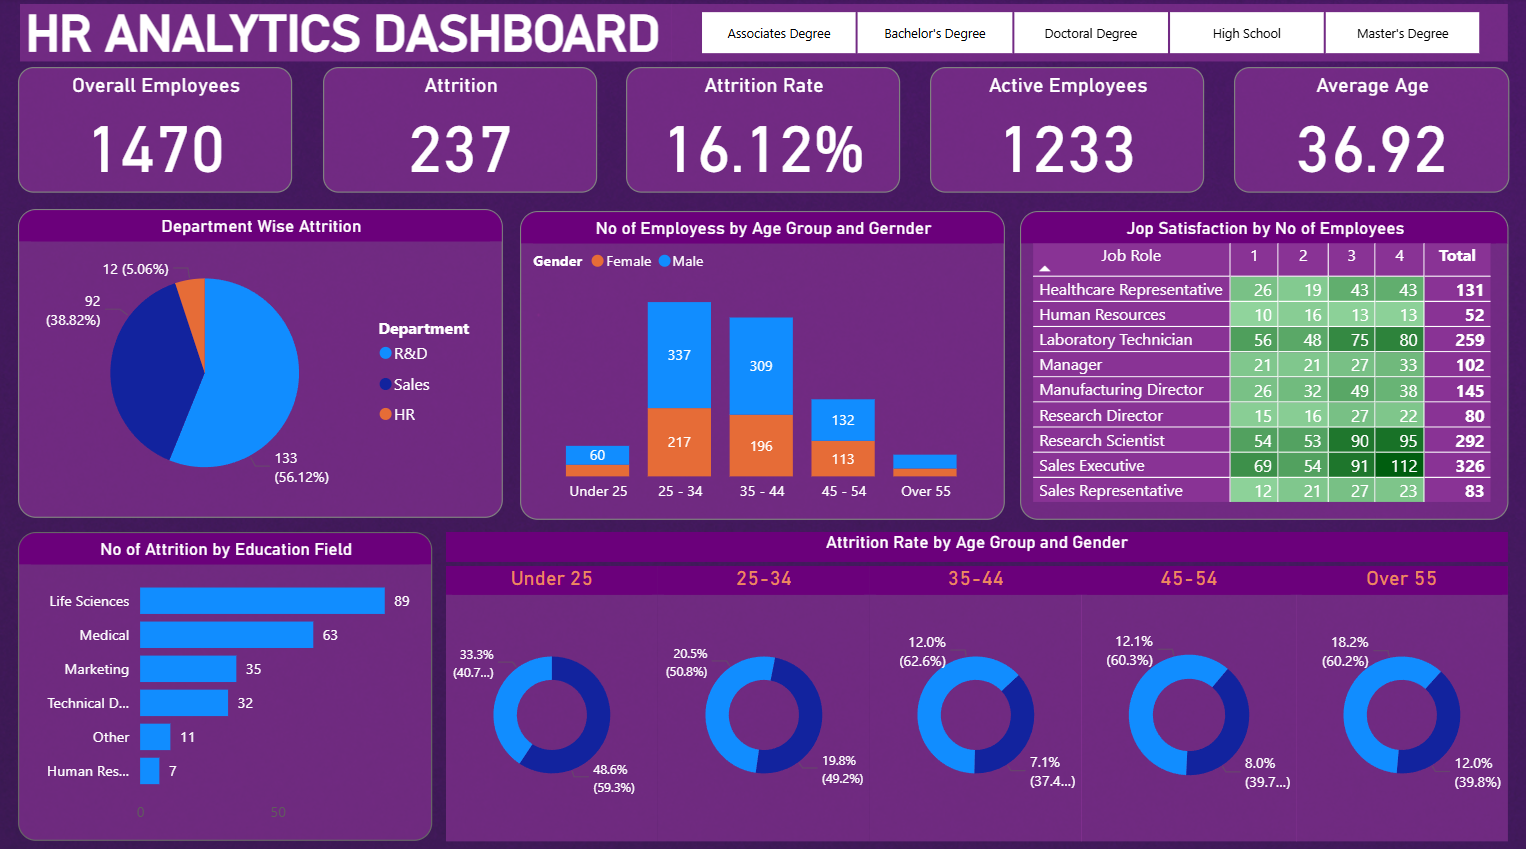

The page's visual inventory and layout, read from the dashboard file:
{"tool":"powerbi","page":{"name":"Page 1","canvas":[1280,720],"ordinal":0},"visuals":[{"type":"card","title":"Overall Employees","fields":{"Values":["HR Data xlsx - HR data.Overall Employees"]},"box":[18,57.5,229,105],"z":0},{"type":"card","title":"Attrition","fields":{"Values":["HR Data xlsx - HR data.Attrition2"]},"box":[272,57.5,228.9,105],"z":1000},{"type":"card","title":"Attrition Rate","fields":{"Values":["HR Data xlsx - HR data.Attrition Rate"]},"box":[525.7,57.5,228.9,105],"z":2000},{"type":"card","title":"Active Employees","fields":{"Values":["HR Data xlsx - HR data.Active Emplooyes"]},"box":[779.5,57.5,228.9,105],"z":3000},{"type":"card","title":"Average Age","fields":{"Values":["Avg(HR Data xlsx - HR data.Age)"]},"box":[1033.3,57.5,229.8,105],"z":4000},{"type":"pieChart","title":"Department Wise Attrition","fields":{"Y":["HR Data xlsx - HR data.Attrition2"],"Category":["HR Data xlsx - HR data.Department"]},"box":[18,176,404.9,257.7],"z":5000},{"type":"columnChart","title":"No of Employess by Age Group and Gernder","fields":{"Category":["HR Data xlsx - HR data.CF_age band"],"Y":["HR Data xlsx - HR data.Overall Employees"],"Series":["HR Data xlsx - HR data.Gender"]},"box":[437.2,177.8,404.9,257.7],"z":6000},{"type":"pivotTable","title":"Jop Satisfaction by No of Employees","fields":{"Rows":["HR Data xlsx - HR data.Job Role"],"Columns":["HR Data xlsx - HR data.Job Satisfaction"],"Values":["HR Data xlsx - HR data.Overall Employees"]},"box":[854.7,177.8,408.5,257.7],"z":7000},{"type":"clusteredBarChart","title":"No of Attrition by Education Field","fields":{"Y":["HR Data xlsx - HR data.Attrition2"],"Category":["HR Data xlsx - HR data.Education Field"]},"box":[18,446.2,345.6,257.7],"z":8000},{"type":"donutChart","title":"Under 25","fields":{"Y":["HR Data xlsx - HR data.Attrition Rate"],"Category":["HR Data xlsx - HR data.Gender"],"Series":["HR Data xlsx - HR data.CF_age band"]},"box":[375.3,474,176.9,229.8],"z":9000},{"type":"donutChart","title":"25-34","fields":{"Y":["HR Data xlsx - HR data.Attrition Rate"],"Category":["HR Data xlsx - HR data.Gender"],"Series":["HR Data xlsx - HR data.CF_age band"]},"box":[552.1,474,176.9,229.8],"z":10000},{"type":"donutChart","title":"35-44","fields":{"Y":["HR Data xlsx - HR data.Attrition Rate"],"Category":["HR Data xlsx - HR data.Gender"],"Series":["HR Data xlsx - HR data.CF_age band"]},"box":[729,474,176.9,229.8],"z":11000},{"type":"donutChart","title":"45-54","fields":{"Y":["HR Data xlsx - HR data.Attrition Rate"],"Category":["HR Data xlsx - HR data.Gender"],"Series":["HR Data xlsx - HR data.CF_age band"]},"box":[905.8,474,180.4,229.8],"z":12000},{"type":"donutChart","title":"Over 55","fields":{"Y":["HR Data xlsx - HR data.Attrition Rate"],"Category":["HR Data xlsx - HR data.Gender"],"Series":["HR Data xlsx - HR data.CF_age band"]},"box":[1085.4,474,176.9,229.8],"z":13000},{"type":"textbox","title":"Attrition Rate by Age Group and Gender","box":[375.3,446.2,887,25.1],"z":14000},{"type":"textbox","title":"HR ANALYTICS DASHBOARD","box":[18.9,5.4,544,47.6],"z":15000},{"type":"slicer","fields":{"Values":["HR Data xlsx - HR data.Education"]},"box":[562.9,5.4,699.4,47.6],"z":16000}]}

Visuals, with their boxes in screenshot pixels (x1, y1, x2, y2), scaled from the page's 1280x720 canvas onto the 1526x849 screenshot:
"Overall Employees" card: crop(21, 68, 294, 192)
"Attrition" card: crop(324, 68, 597, 192)
"Attrition Rate" card: crop(627, 68, 900, 192)
"Active Employees" card: crop(929, 68, 1202, 192)
"Average Age" card: crop(1232, 68, 1506, 192)
"Department Wise Attrition" pieChart: crop(21, 208, 504, 511)
"No of Employess by Age Group and Gernder" columnChart: crop(521, 210, 1004, 514)
"Jop Satisfaction by No of Employees" pivotTable: crop(1019, 210, 1506, 514)
"No of Attrition by Education Field" clusteredBarChart: crop(21, 526, 433, 830)
"Under 25" donutChart: crop(447, 559, 658, 830)
"25-34" donutChart: crop(658, 559, 869, 830)
"35-44" donutChart: crop(869, 559, 1080, 830)
"45-54" donutChart: crop(1080, 559, 1295, 830)
"Over 55" donutChart: crop(1294, 559, 1505, 830)
"Attrition Rate by Age Group and Gender" textbox: crop(447, 526, 1505, 556)
"HR ANALYTICS DASHBOARD" textbox: crop(23, 6, 671, 62)
slicer - HR Data xlsx - HR data.Education: crop(671, 6, 1505, 62)
